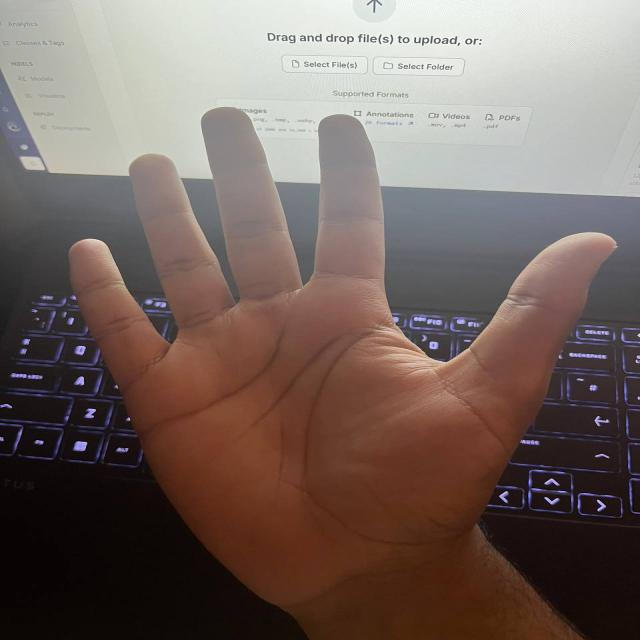hand palm open: (65, 101, 616, 580)
